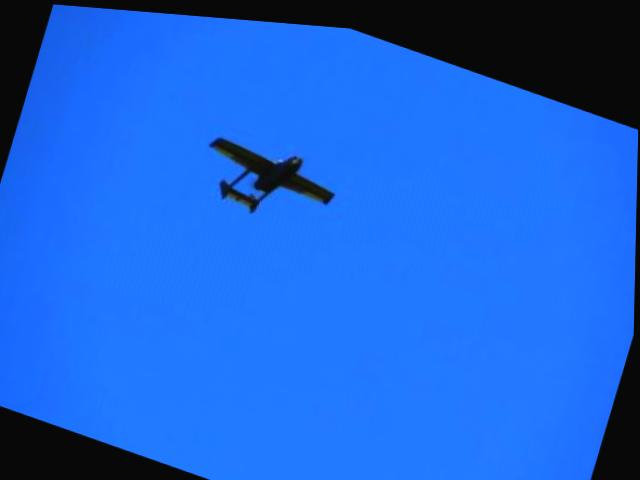uav: (190, 113, 346, 236)
